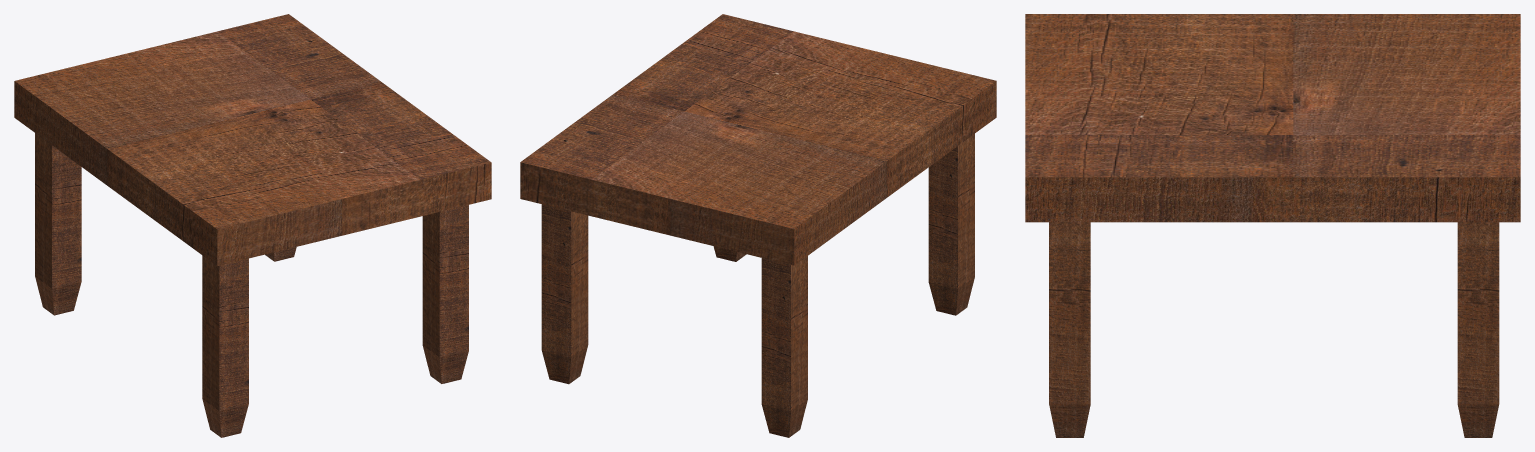
The model's file is small table.fbx.
The picture shows the model from 3 angles, left to right: view 1: azimuth 30°, elevation 25°; view 2: azimuth 150°, elevation 25°; view 3: azimuth 270°, elevation 25°; orthographic projection. The views are drawn at different scales.
Parts seen in each view (by area): view 1: pCube38; view 2: pCube38; view 3: pCube38.
Boxes of the visible parts, bbox=[...] form: pCube38: bbox=[14, 14, 491, 437]; pCube38: bbox=[520, 14, 996, 437]; pCube38: bbox=[1025, 14, 1520, 437].
Size of the model in its own units: 76.54 by 59.16 by 98.02.
Materials: 1 (1 with a texture image).
